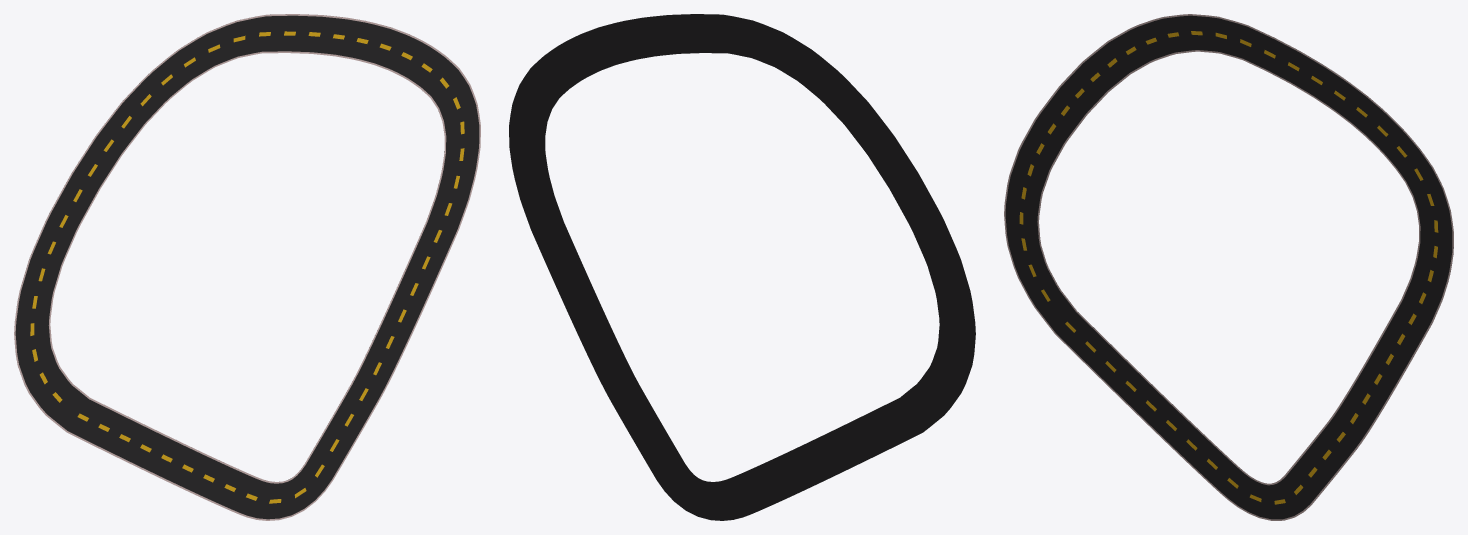
Rendered from track.obj.
3 views of the same model, side by side, from view 1: azimuth 30°, elevation 25°; view 2: azimuth 150°, elevation 25°; view 3: azimuth 330°, elevation 25° (orthographic). The views are drawn at different scales.
Size of the model in its own units: 11.88 by 12.41 by 0.002.
